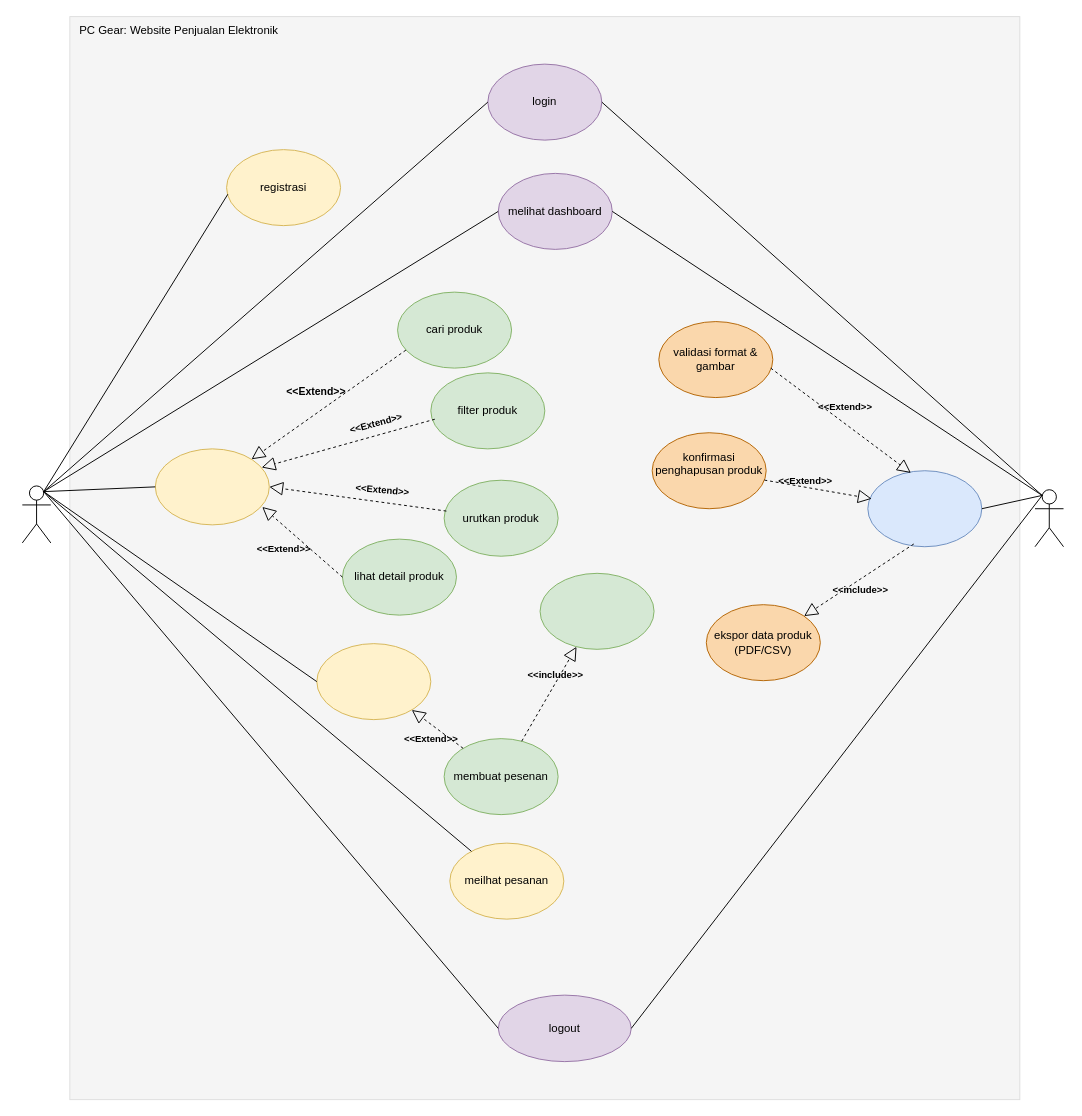
This 1082x1116 diagram has some shape labels left out. The centre of each missing label's shape, as x and y in pixels:
"Admin" goes at point 1049,518.
"kelola produk (tambah,ubah, hapus)" goes at point 924,508.
"melihat katalog produk" goes at point 211,486.
"melihat keranjang" goes at point 373,681.
"Pembeli" goes at point 36,514.
"pilih metode pembayaran" goes at point 596,610.
